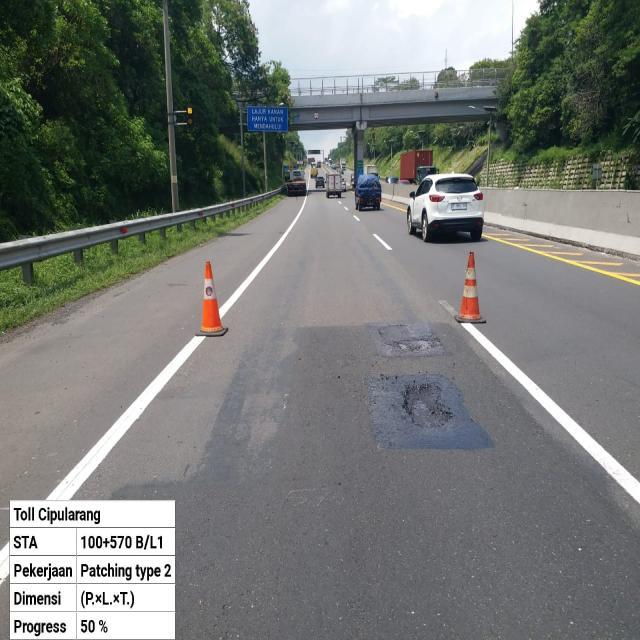Buraco: (399, 381, 457, 430), (392, 336, 445, 355)
